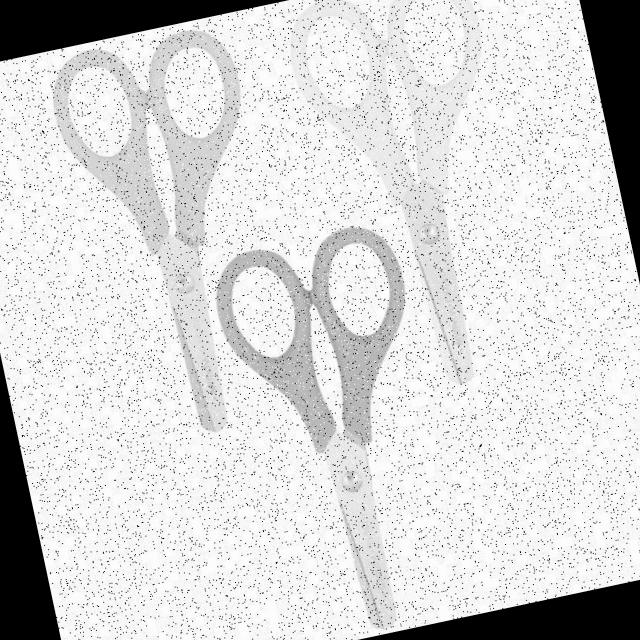scissors: (201, 213, 476, 640), (30, 17, 251, 445), (251, 0, 485, 393)
